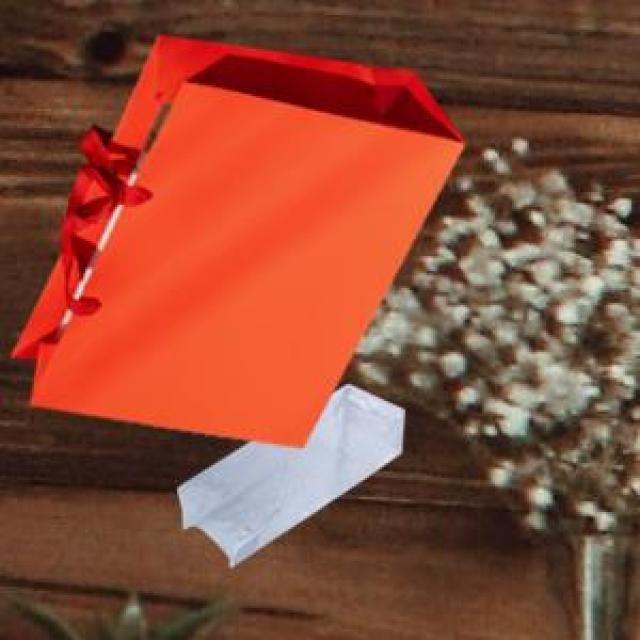paper: (6, 32, 461, 444)
